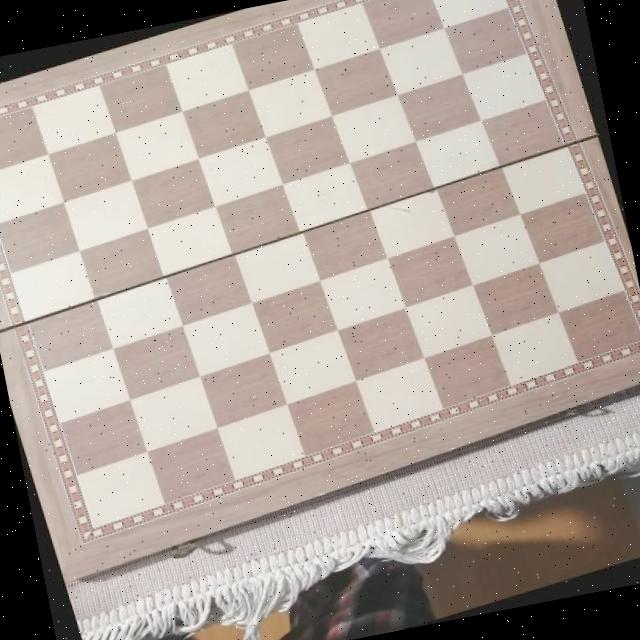corners: (60, 572, 84, 592)
